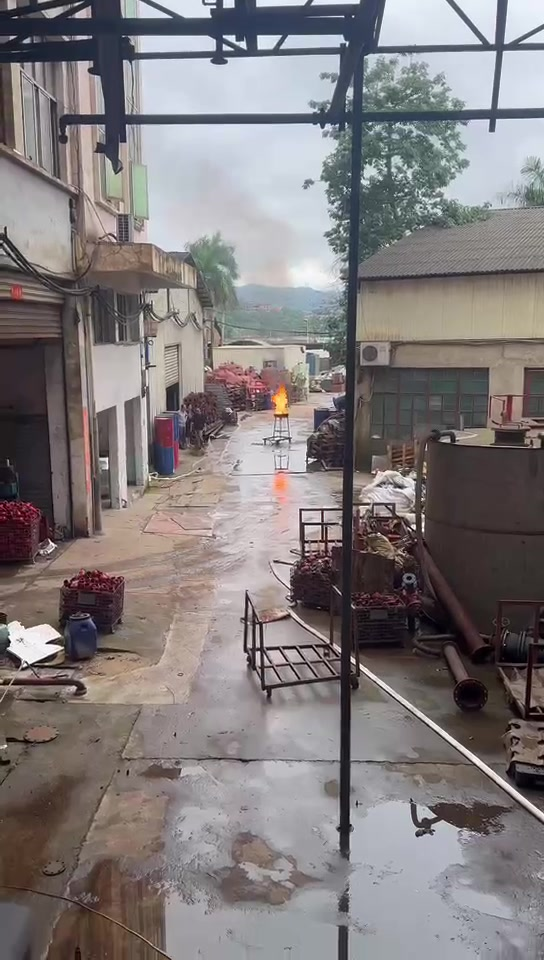fire: (271, 382, 287, 414)
